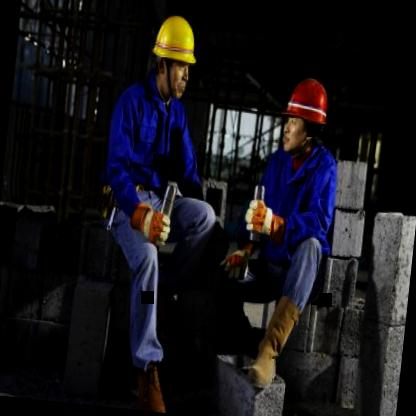helmet: (140, 7, 204, 104), (272, 68, 336, 160)
